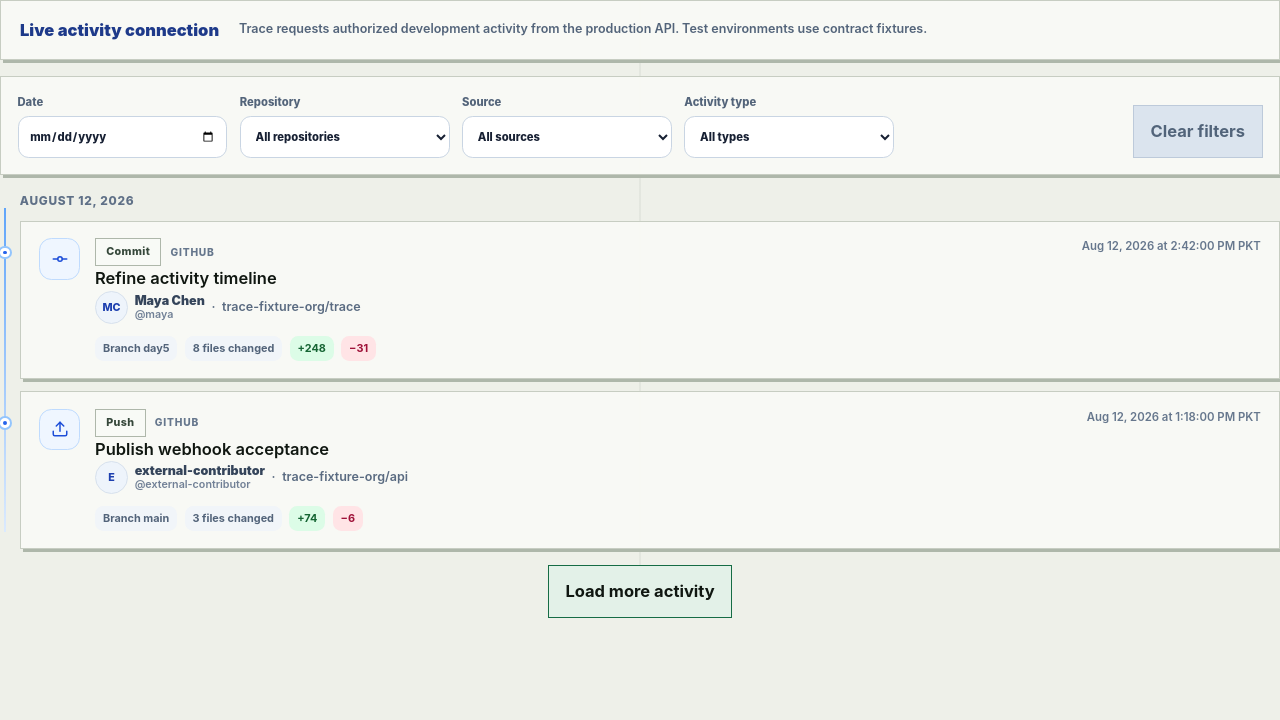
it: Day 5 activity experience › does not append an old cursor page after filters change
expect the heading "Refine activity timeline" is shown: met, box [95,268,277,288]
Click the button "Load more activity" at (640, 592), box [548,565,732,618]
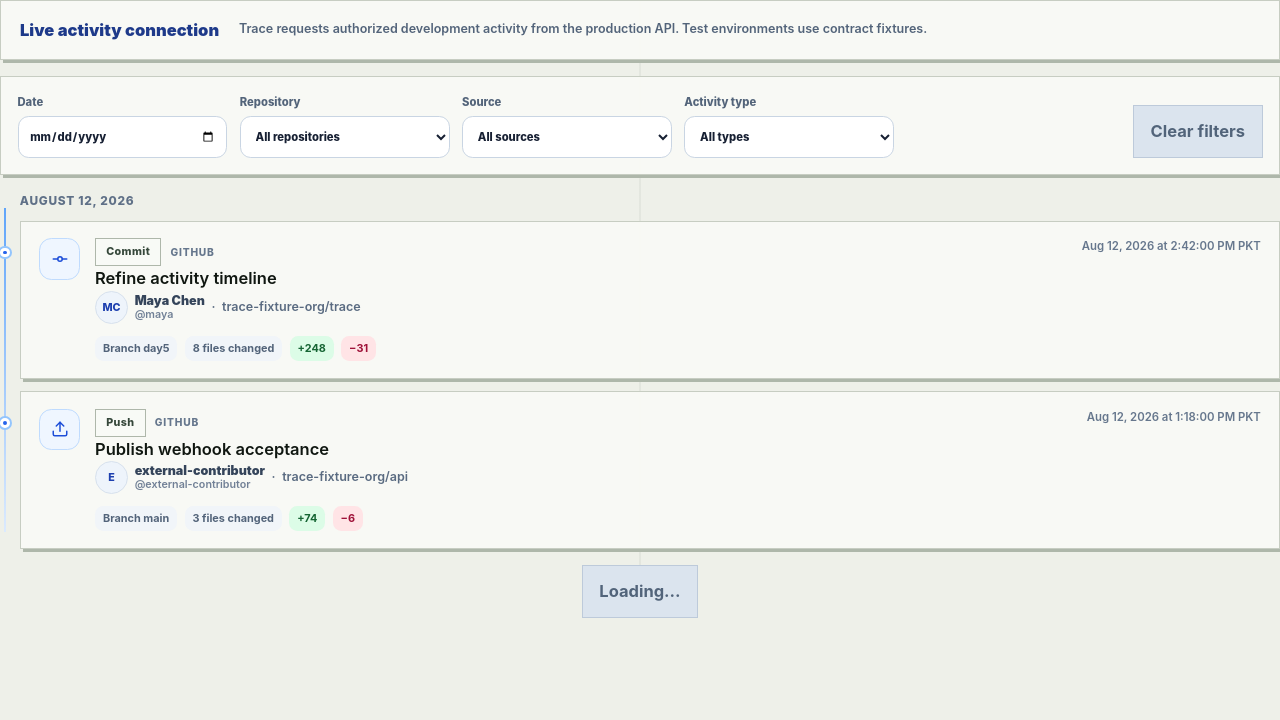
Select "live/repository" in the dropdown labelled "Repository" at (345, 137), box [240,116,450,158]
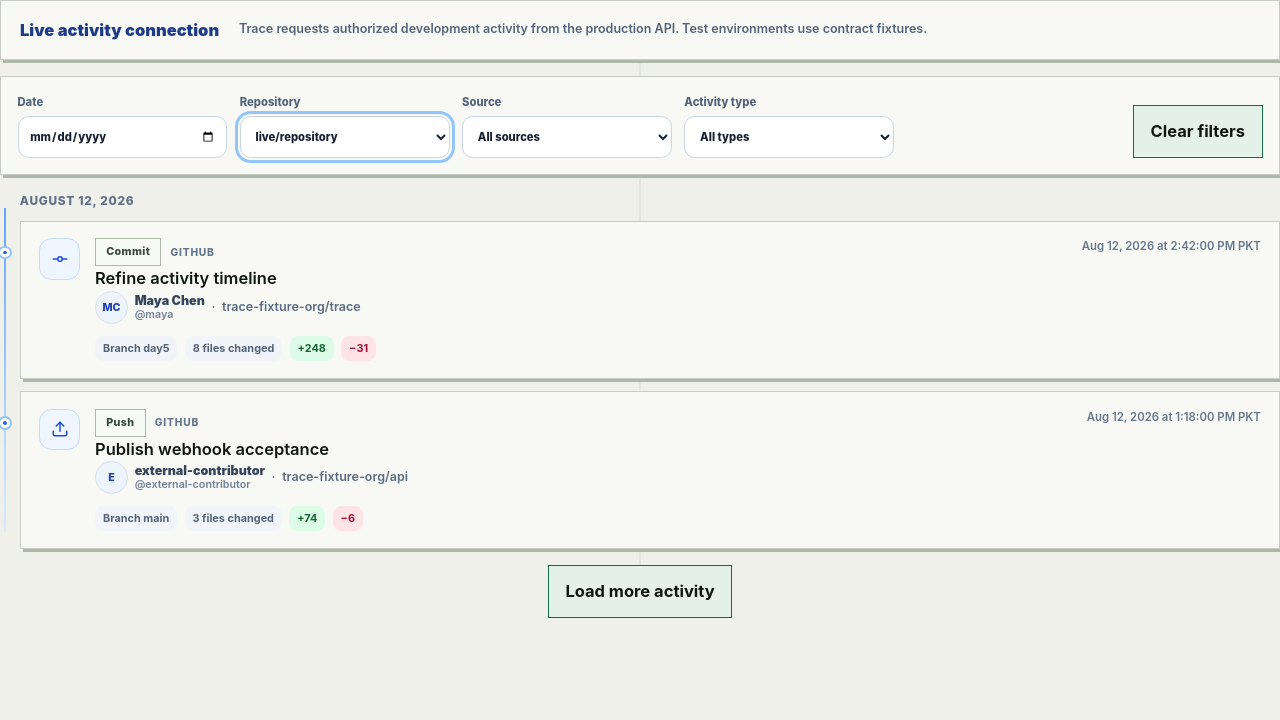
expect the button "Load more activity" is enabled: met, box [548,565,732,618]
